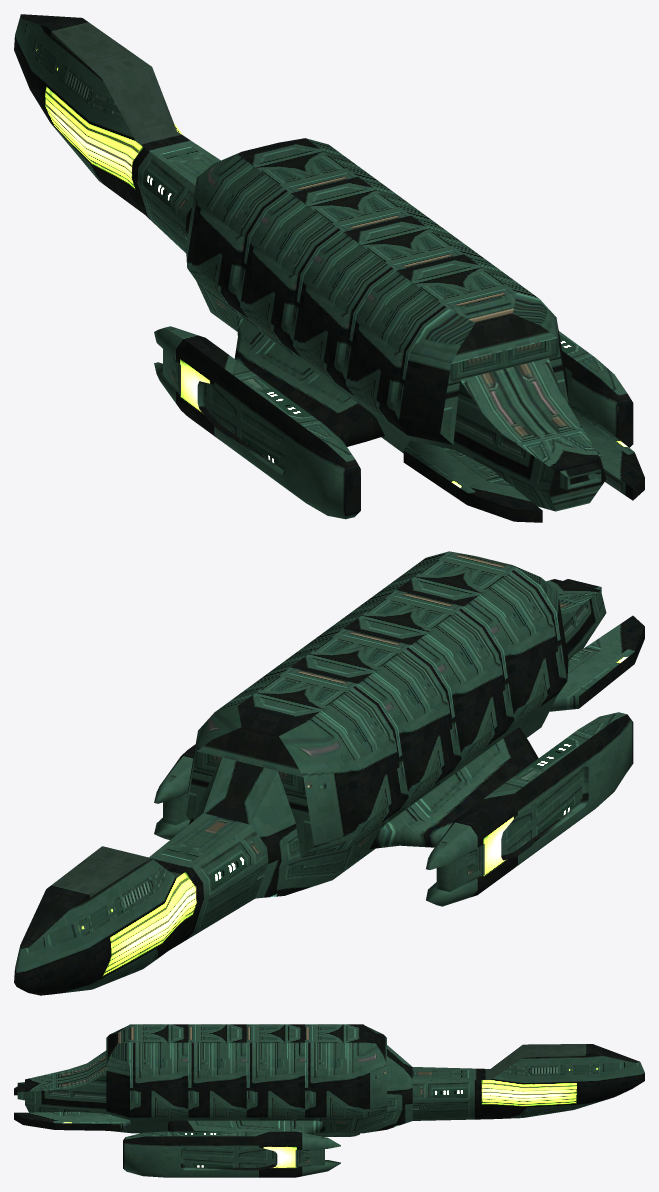
Rendered from Rom_Sparrow.fbx.
3 renders of one model, top to bottom at view 1: azimuth 30°, elevation 25°; view 2: azimuth 150°, elevation 25°; view 3: azimuth 270°, elevation 25°, orthographic. The views are drawn at different scales.
Visible parts, largest first — view 1: Rom_Sparrow; view 2: Rom_Sparrow; view 3: Rom_Sparrow.
Boxes of the visible parts, x1,y1,x2,y2 form: Rom_Sparrow: [14, 14, 644, 522]; Rom_Sparrow: [14, 551, 644, 995]; Rom_Sparrow: [14, 1024, 644, 1177].
Bounding box in the file's own units: 115 × 69.09 × 376.
1 material, 1 textured.
